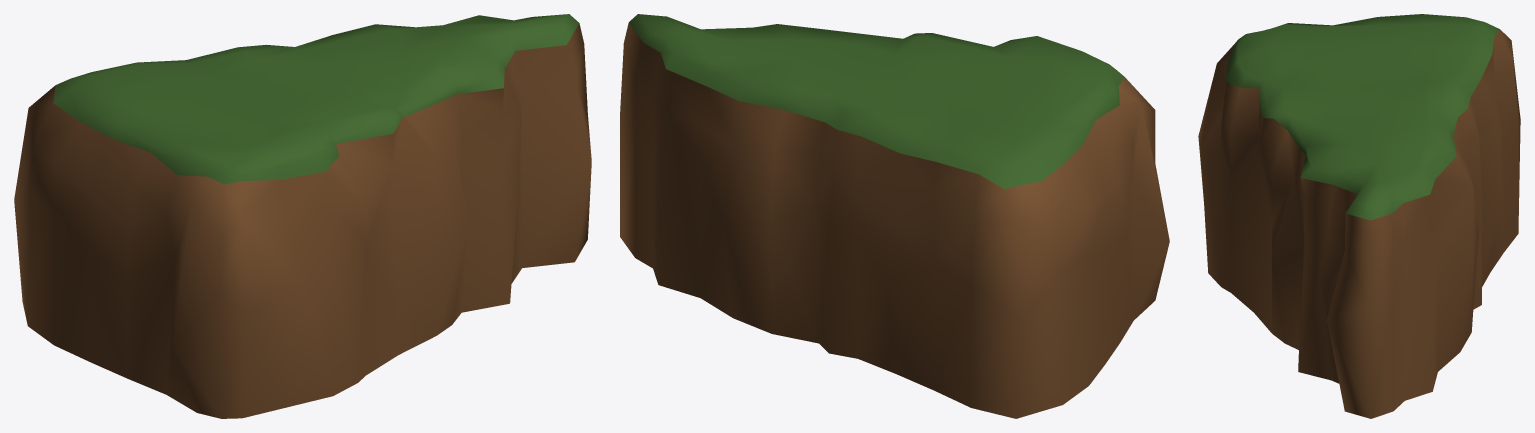
Rendered from Island02.fbx.
3 renders of one model, left to right at view 1: azimuth 30°, elevation 25°; view 2: azimuth 150°, elevation 25°; view 3: azimuth 270°, elevation 25°, orthographic. The views are drawn at different scales.
Visible parts, largest first — view 1: Island02_Cliffside, Island02_Grass; view 2: Island02_Cliffside, Island02_Grass; view 3: Island02_Cliffside, Island02_Grass.
Part boxes in pixels (x1,y1,x2,y2): Island02_Cliffside: [14, 23, 591, 418]; Island02_Grass: [53, 14, 579, 184]; Island02_Cliffside: [620, 22, 1169, 418]; Island02_Grass: [629, 14, 1124, 188]; Island02_Cliffside: [1198, 29, 1520, 418]; Island02_Grass: [1225, 14, 1499, 220].
Size of the model in its own units: 111 by 50.01 by 68.96.
